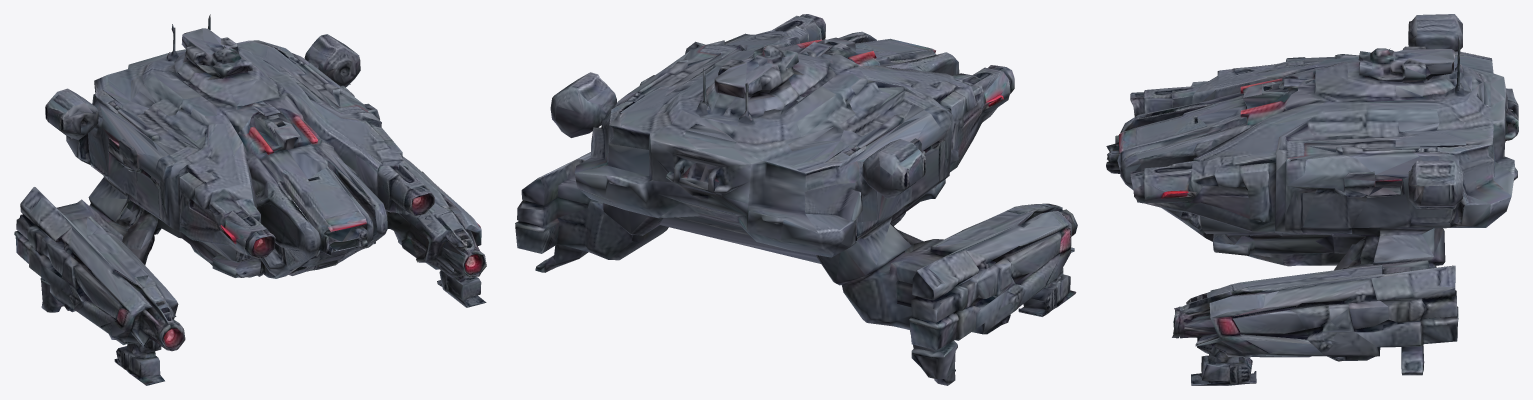
File: t243_etur_lod0m.glb
The picture shows the model from 3 angles, left to right: view 1: azimuth 30°, elevation 25°; view 2: azimuth 150°, elevation 25°; view 3: azimuth 270°, elevation 25°; orthographic projection. The views are drawn at different scales.
Size of the model in its own units: 4.2 by 2.59 by 3.84.
1 material, 1 textured.
